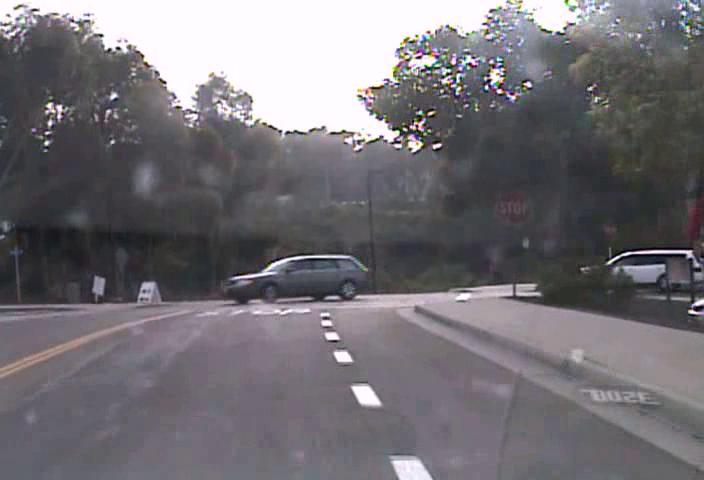stop: (493, 189, 532, 225)
